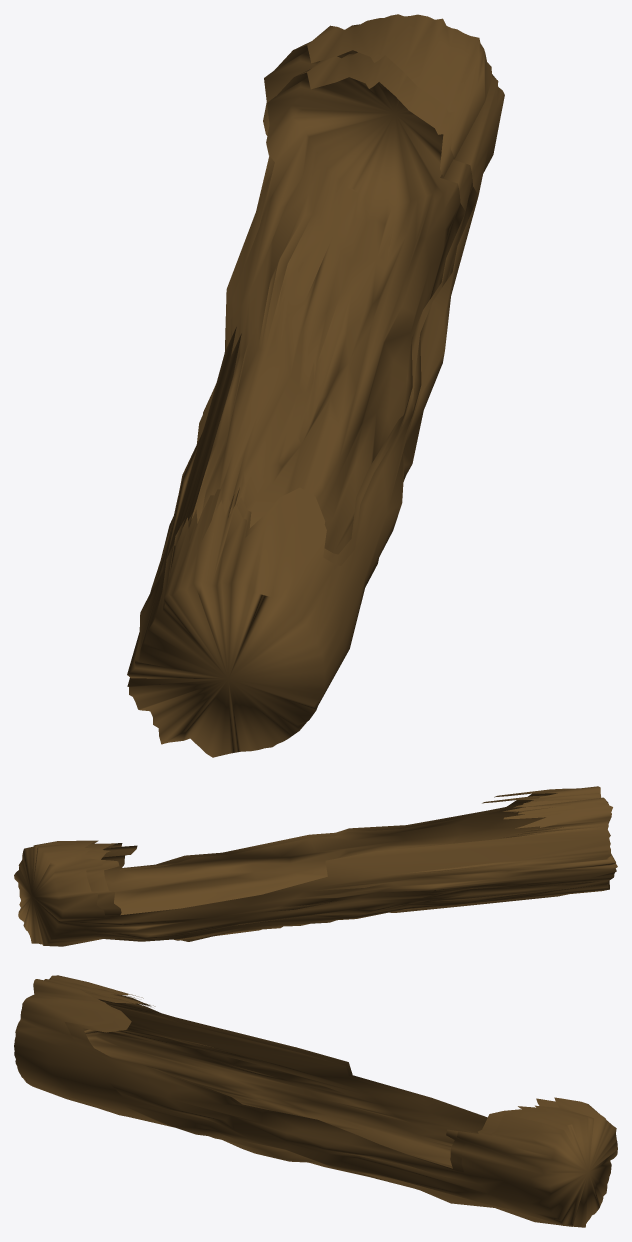
The model's file is vene.fbx.
3 views of the same model, one above another, from view 1: azimuth 30°, elevation 25°; view 2: azimuth 150°, elevation 25°; view 3: azimuth 270°, elevation 25° (orthographic). The views are drawn at different scales.
Parts seen in each view (by area): view 1: Cylinder; view 2: Cylinder; view 3: Cylinder.
Part boxes in pixels (x1,y1,x2,y2): Cylinder: (127,14,504,757); Cylinder: (14,786,617,946); Cylinder: (14,975,617,1227).
Bounding box in the file's own units: 20.17 × 6.13 × 23.39.
